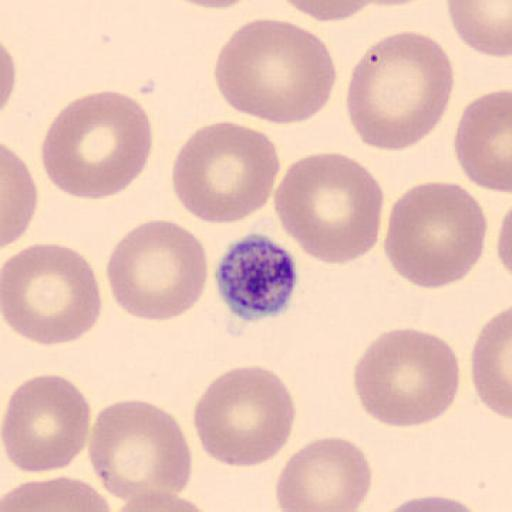Platelet: (211, 231, 300, 322)
RBC: (345, 29, 454, 152), (214, 17, 338, 125), (272, 151, 386, 266), (39, 89, 154, 202), (170, 120, 282, 226), (383, 180, 489, 291), (352, 326, 462, 429), (88, 398, 194, 504), (192, 363, 296, 469), (104, 219, 209, 323), (2, 241, 102, 347), (2, 374, 92, 474), (274, 434, 375, 512), (452, 88, 512, 194), (471, 304, 512, 421), (0, 474, 114, 512), (445, 0, 512, 59), (2, 142, 38, 250), (276, 0, 441, 21), (111, 488, 219, 512), (277, 0, 383, 23), (371, 493, 489, 512), (0, 40, 18, 114), (495, 203, 512, 277), (164, 0, 261, 10)
